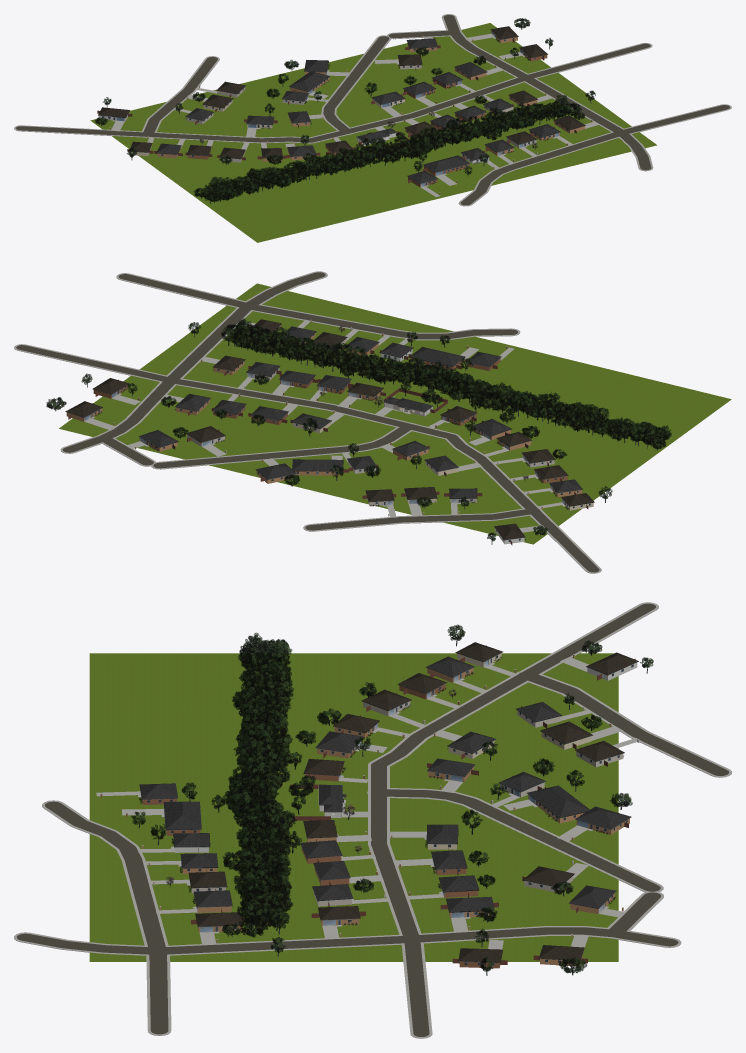
File: house.glb
The picture shows the model from 3 angles, top to bottom: view 1: azimuth 30°, elevation 25°; view 2: azimuth 150°, elevation 25°; view 3: azimuth 270°, elevation 25°; orthographic projection. The views are drawn at different scales.
Visible parts, largest first — view 1: hood_grass, hood_oakleaf, hood_asphalt, hood_shingle, hood_sidewalk, hood_shingle_b, hood_concrete, hood_brick_b, hood_fascia, hood_bark, hood_brick_c, hood_brick (+2 smaller); view 2: hood_grass, hood_oakleaf, hood_asphalt, hood_shingle, hood_sidewalk, hood_shingle_b, hood_concrete, hood_brick_b, house_grass, hood_fascia, hood_brick_c, hood_bark (+3 smaller); view 3: hood_grass, hood_oakleaf, hood_asphalt, hood_shingle, hood_sidewalk, hood_shingle_b, hood_concrete, hood_brick_b, house_grass, hood_fascia, hood_brick_c, hood_brick (+4 smaller).
Boxes of the visible parts, <box> form: hood_grass: <box>90,23,656,242</box>; hood_oakleaf: <box>95,18,595,201</box>; hood_asphalt: <box>16,15,729,205</box>; hood_shingle: <box>156,38,560,183</box>; hood_sidewalk: <box>14,14,731,206</box>; hood_shingle_b: <box>98,26,585,158</box>; hood_concrete: <box>110,33,599,196</box>; hood_brick_b: <box>110,31,592,168</box>; hood_fascia: <box>98,27,585,183</box>; hood_bark: <box>98,25,592,203</box>; hood_brick_c: <box>187,49,547,194</box>; hood_brick: <box>174,62,537,162</box>; hood_grass: <box>59,283,731,544</box>; hood_oakleaf: <box>46,318,671,541</box>; hood_asphalt: <box>16,272,599,572</box>; hood_shingle: <box>139,326,582,498</box>; hood_sidewalk: <box>14,271,601,573</box>; hood_shingle_b: <box>66,319,594,539</box>; hood_concrete: <box>84,320,565,532</box>; hood_brick_b: <box>66,320,581,530</box>; house_grass: <box>358,386,464,427</box>; hood_fascia: <box>65,321,594,540</box>; hood_brick_c: <box>93,346,567,483</box>; hood_bark: <box>55,325,667,544</box>; hood_grass: <box>89,653,618,961</box>; hood_oakleaf: <box>131,624,653,973</box>; hood_asphalt: <box>17,603,728,1036</box>; hood_shingle: <box>139,656,631,912</box>; hood_sidewalk: <box>14,602,731,1038</box>; hood_shingle_b: <box>188,642,638,962</box>; hood_concrete: <box>96,654,640,949</box>; hood_brick_b: <box>142,655,629,966</box>; house_grass: <box>281,780,367,828</box>; hood_fascia: <box>139,646,638,962</box>; hood_brick_c: <box>100,684,500,968</box>; hood_brick: <box>153,701,639,906</box>.
Bounding box in the file's own units: 410 × 13.85 × 285.
43 materials, 23 textured.
